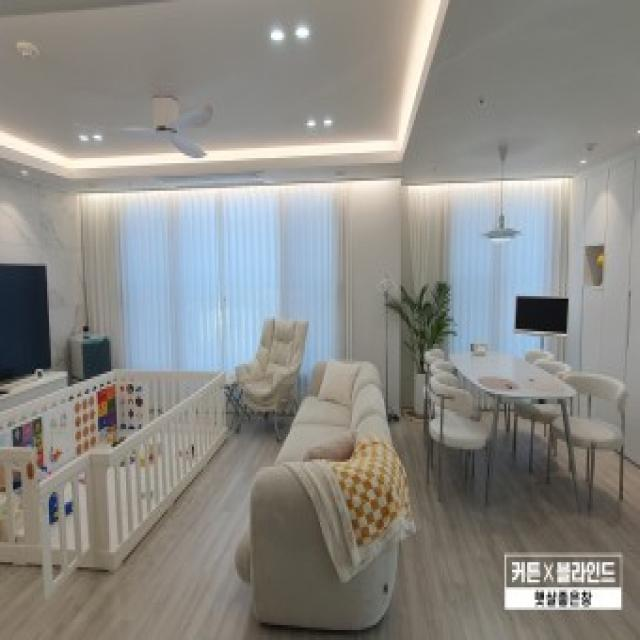Chair: (228, 305, 303, 429)
Sofa: (248, 354, 404, 632)
Table: (446, 334, 581, 501)
tv: (4, 258, 56, 384)
window: (78, 190, 346, 358), (413, 190, 560, 334)
